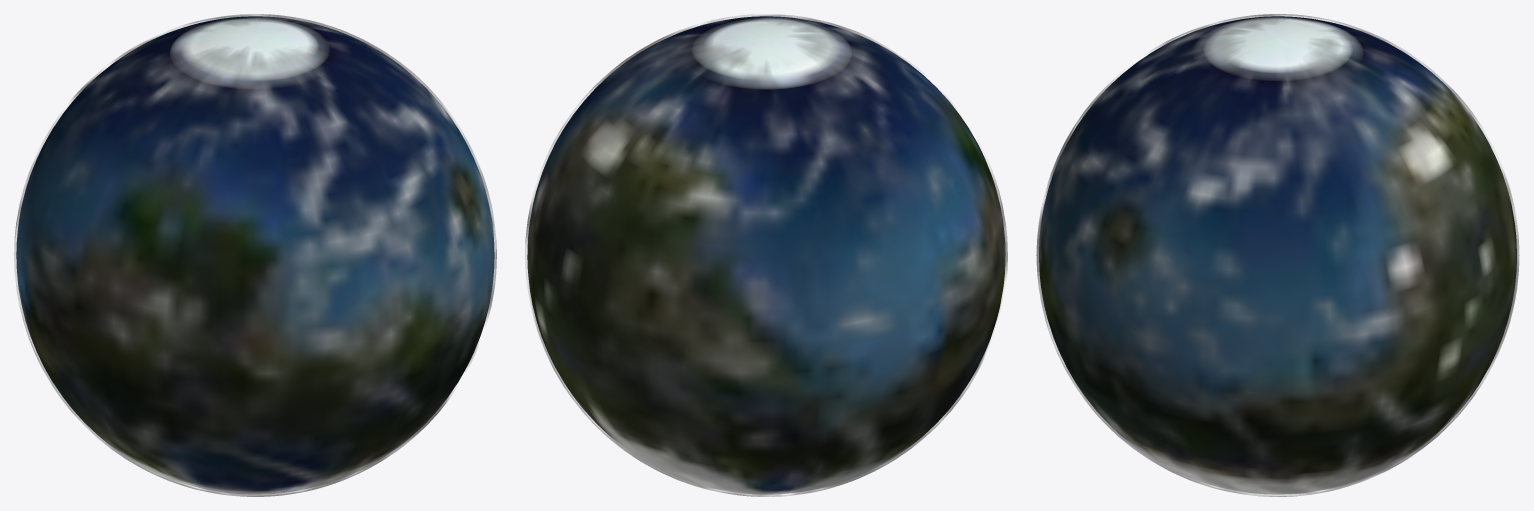
3 renders of one model, left to right at view 1: azimuth 30°, elevation 25°; view 2: azimuth 150°, elevation 25°; view 3: azimuth 270°, elevation 25°, orthographic.
Parts seen in each view (by area): view 1: Esfera_Mat_0, Esfera_1_Mat.1_0; view 2: Esfera_Mat_0, Esfera_1_Mat.1_0; view 3: Esfera_Mat_0, Esfera_1_Mat.1_0.
Part boxes in pixels (x1,y1,x2,y2): Esfera_Mat_0: [16, 16, 494, 494]; Esfera_1_Mat.1_0: [14, 14, 496, 496]; Esfera_Mat_0: [527, 16, 1005, 494]; Esfera_1_Mat.1_0: [525, 14, 1007, 496]; Esfera_Mat_0: [1039, 16, 1516, 494]; Esfera_1_Mat.1_0: [1036, 14, 1519, 496].
Bounding box in the file's own units: 2020 × 2020 × 2020.
2 materials, 2 textured.
